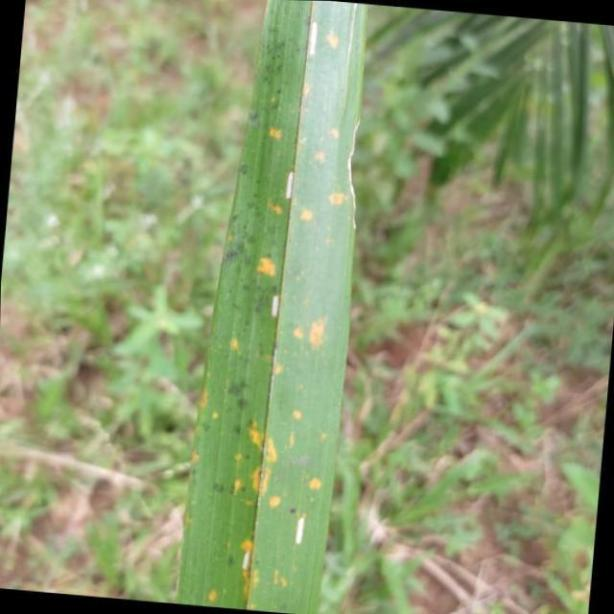Kalium: (176, 0, 369, 614)
